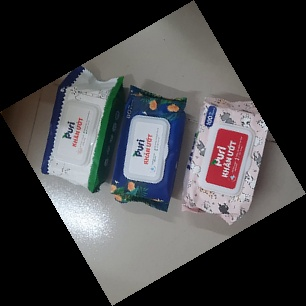Puri Trang: (38, 64, 124, 193)
Puri Xanh: (111, 82, 189, 215)
Puri hong: (182, 92, 273, 226)
